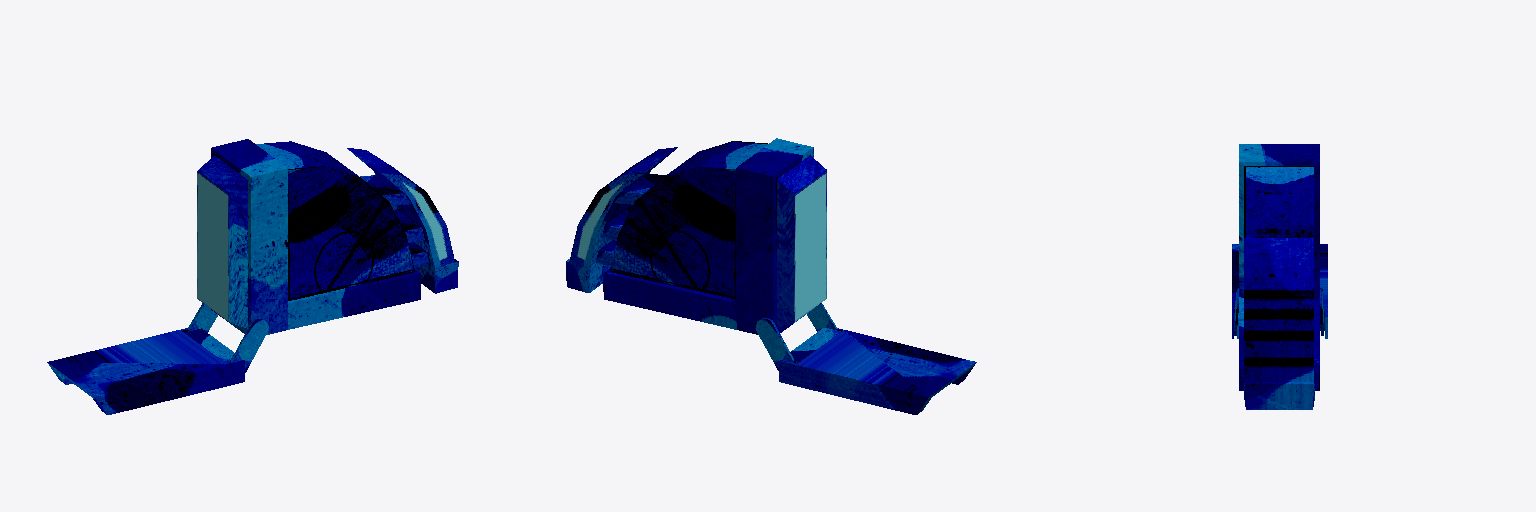
3 renders of one model, left to right at view 1: azimuth 30°, elevation 25°; view 2: azimuth 150°, elevation 25°; view 3: azimuth 270°, elevation 25°, orthographic.
Visible parts, largest first — view 1: canon_Cylinder.005; view 2: canon_Cylinder.005; view 3: canon_Cylinder.005.
Boxes of the visible parts, x1,y1,x2,y2 form: canon_Cylinder.005: [47, 139, 458, 414]; canon_Cylinder.005: [566, 138, 976, 414]; canon_Cylinder.005: [1232, 144, 1327, 409].
Size of the model in its own units: 3.97 by 2.05 by 0.893.
1 materials, 1 textured.